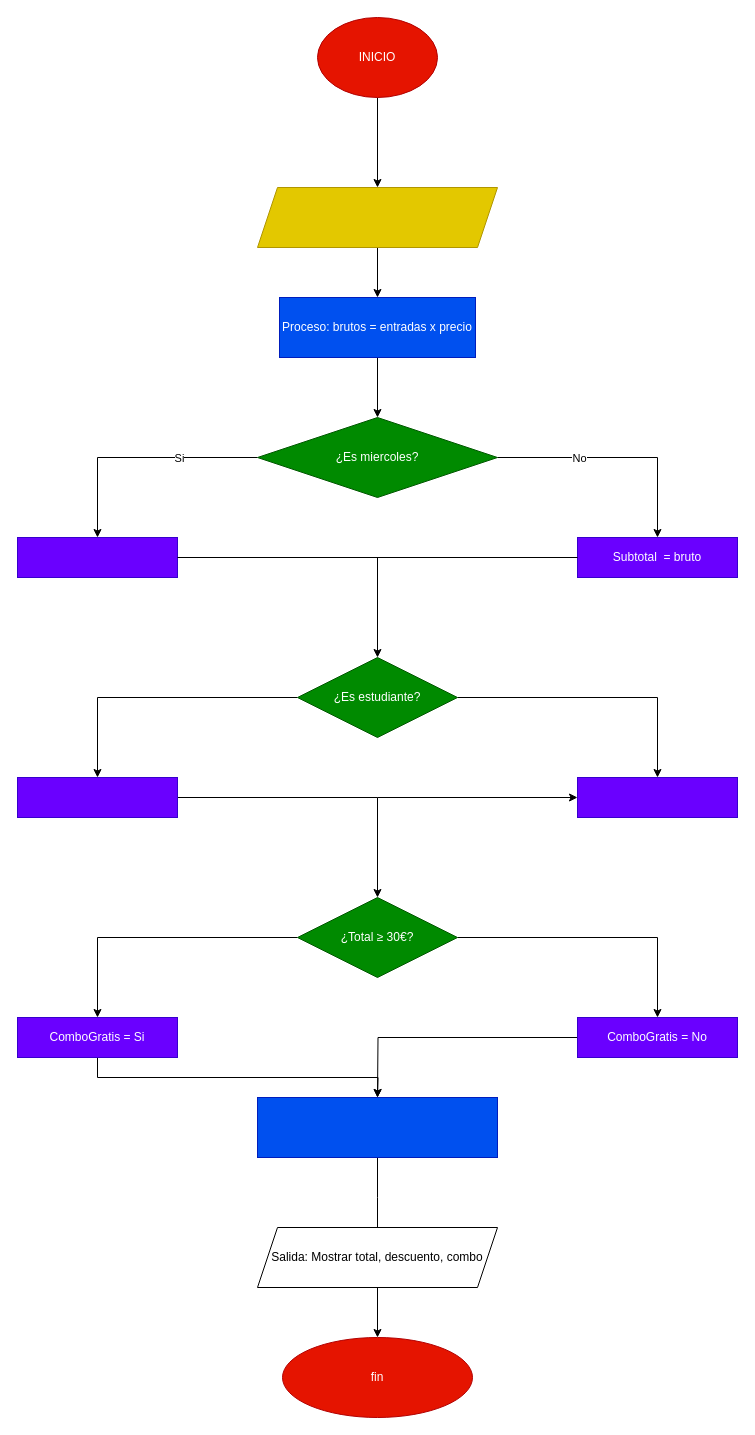
The diagram is 755 pixels wide and 1435 high, and some of its shapes have lost their labels. Each missing label, with the centre of its shape:
"Descuento € = bruto - total combo gratis" goes at (377,1127).
"Entrada: Nº entradas, ¿estudiante?" goes at (377,217).
"Subtotal = bruto x 0,5 subtotal = 8 * 0,5 = 4" goes at (97,557).
"Total = subtotal" goes at (657,797).
"Total = subtotal * 0,8 total = 4 * 0,8" goes at (97,797).
